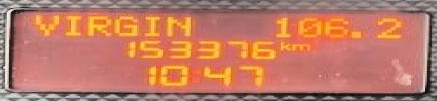-: (348, 29, 362, 38)
0: (157, 63, 185, 86), (296, 16, 320, 37)
1: (272, 15, 289, 37), (142, 63, 156, 86), (124, 39, 135, 58)
2: (372, 16, 402, 40)
3: (194, 38, 220, 58), (168, 38, 190, 58)
4: (201, 65, 230, 85)
5: (138, 39, 161, 58)
6: (249, 39, 274, 60), (322, 16, 346, 37)
7: (237, 64, 265, 85), (225, 38, 247, 58)
X: (163, 14, 192, 37), (112, 14, 140, 36), (83, 14, 109, 37), (31, 13, 59, 34), (64, 14, 79, 37), (142, 14, 157, 37), (187, 66, 199, 84), (289, 42, 310, 50), (277, 40, 289, 50)
